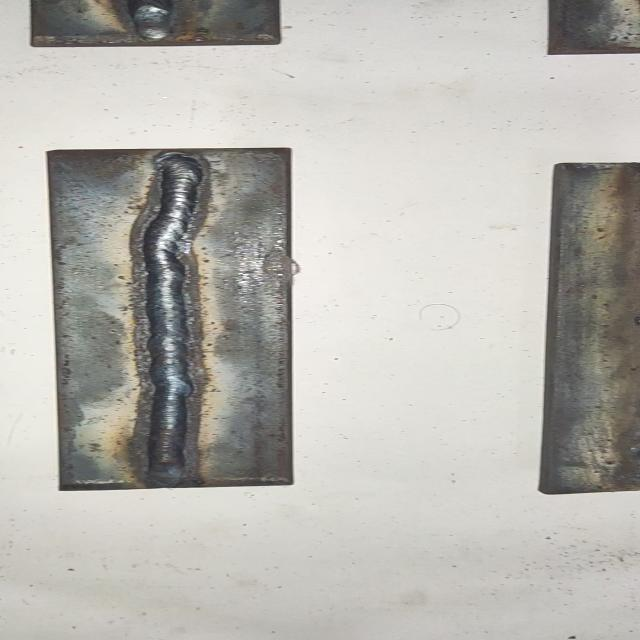Good Weld: (138, 155, 204, 483)
